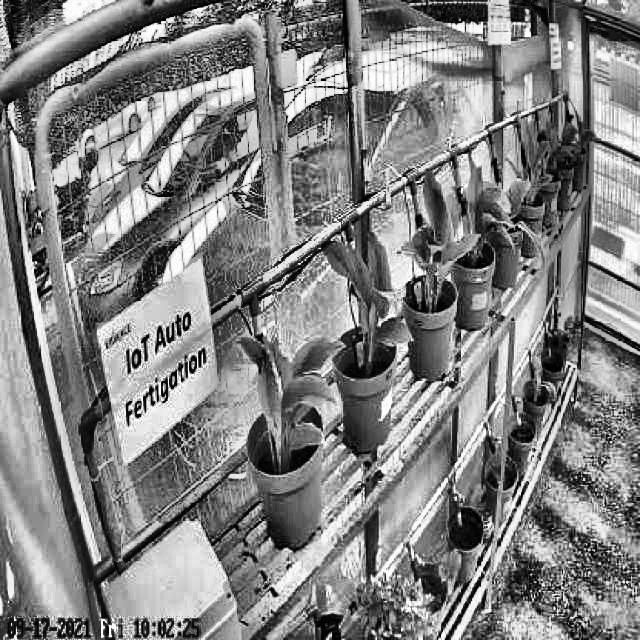plants: (237, 326, 348, 474), (316, 229, 416, 374), (399, 166, 479, 312), (446, 166, 512, 274)
